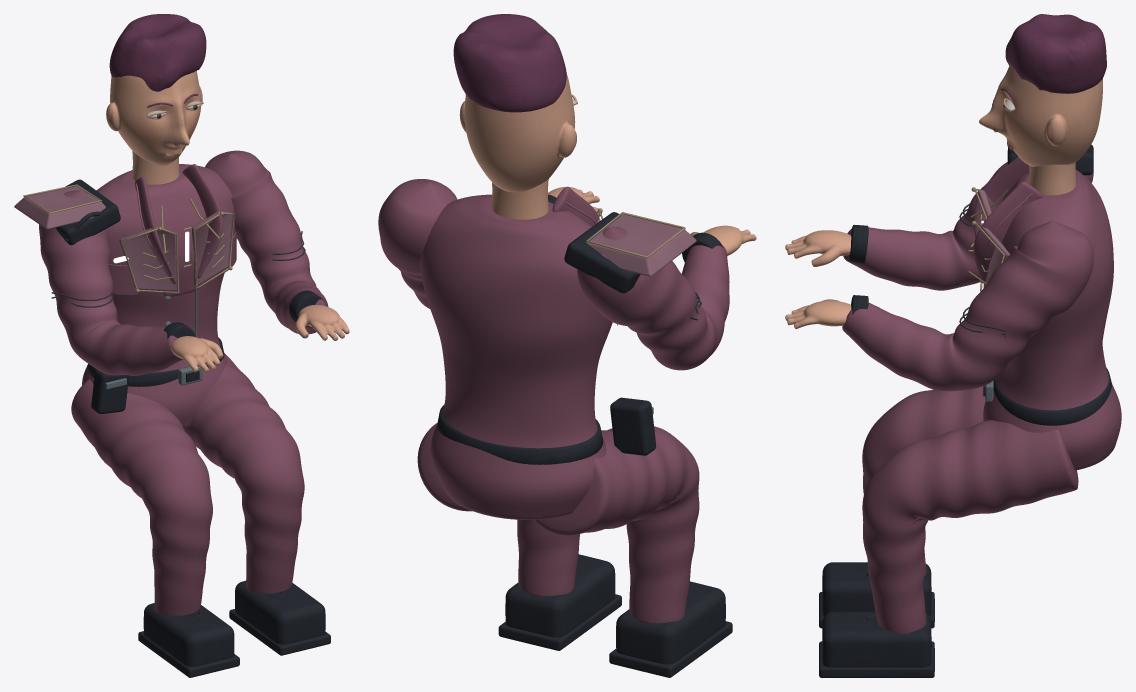
Rendered from courier.gltf.
The picture shows the model from 3 angles, left to right: view 1: azimuth 30°, elevation 25°; view 2: azimuth 150°, elevation 25°; view 3: azimuth 270°, elevation 25°; orthographic projection. The views are drawn at different scales.
Parts seen in each view (by area): view 1: council-asset-8-courier_Fabric, council-asset-8-courier_Leather, Oni Metal tailoring, sculpted-head_Skin, sculpted-head_Hair, council-asset-8-courier_Skin, council-asset-8-courier_Metal; view 2: council-asset-8-courier_Fabric, council-asset-8-courier_Leather, sculpted-head_Hair, sculpted-head_Skin, Oni Metal tailoring, council-asset-8-courier_Skin; view 3: council-asset-8-courier_Fabric, council-asset-8-courier_Leather, sculpted-head_Skin, sculpted-head_Hair, council-asset-8-courier_Skin, Oni Metal tailoring.
Boxes of the visible parts, x1,y1,x2,y2 form: council-asset-8-courier_Fabric: [39, 150, 328, 615]; council-asset-8-courier_Leather: [55, 179, 330, 677]; Oni Metal tailoring: [14, 184, 234, 293]; sculpted-head_Skin: [106, 71, 202, 165]; sculpted-head_Hair: [109, 14, 206, 91]; council-asset-8-courier_Skin: [132, 151, 349, 372]; council-asset-8-courier_Metal: [105, 286, 202, 389]; council-asset-8-courier_Fabric: [378, 179, 729, 623]; council-asset-8-courier_Leather: [437, 194, 732, 677]; sculpted-head_Hair: [453, 14, 566, 112]; sculpted-head_Skin: [459, 73, 576, 192]; Oni Metal tailoring: [586, 208, 696, 276]; council-asset-8-courier_Skin: [491, 179, 756, 255]; council-asset-8-courier_Fabric: [842, 156, 1121, 633]; council-asset-8-courier_Leather: [819, 142, 1111, 677]; sculpted-head_Skin: [979, 65, 1102, 166]; sculpted-head_Hair: [1005, 14, 1106, 93]; council-asset-8-courier_Skin: [785, 162, 1076, 328]; Oni Metal tailoring: [968, 187, 1009, 291].
Size of what is drawn, in the model's own units: 0.9842 by 2.07 by 1.02.
Materials: 7 (5 with a texture image).
